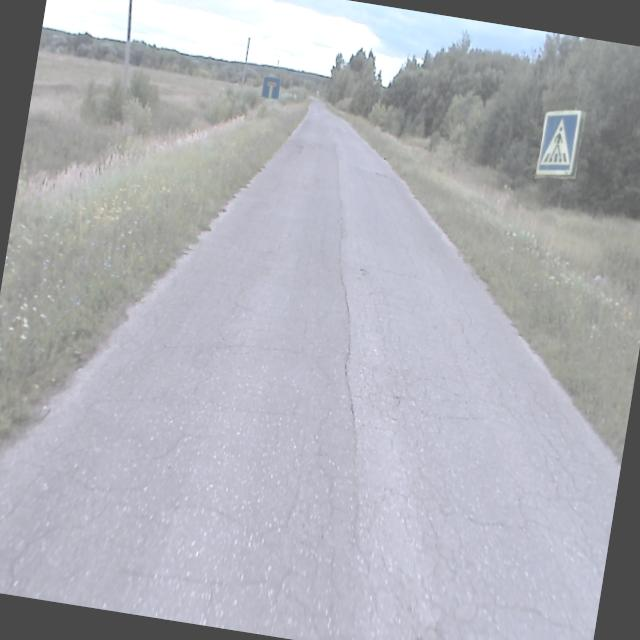road: (0, 99, 620, 640)
